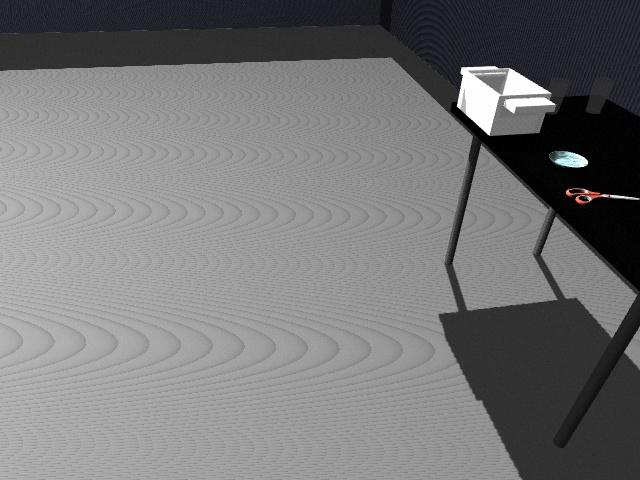cup: (585, 77, 615, 115), (544, 76, 572, 115)
plate: (548, 150, 590, 169)
scissors: (565, 187, 640, 204)
